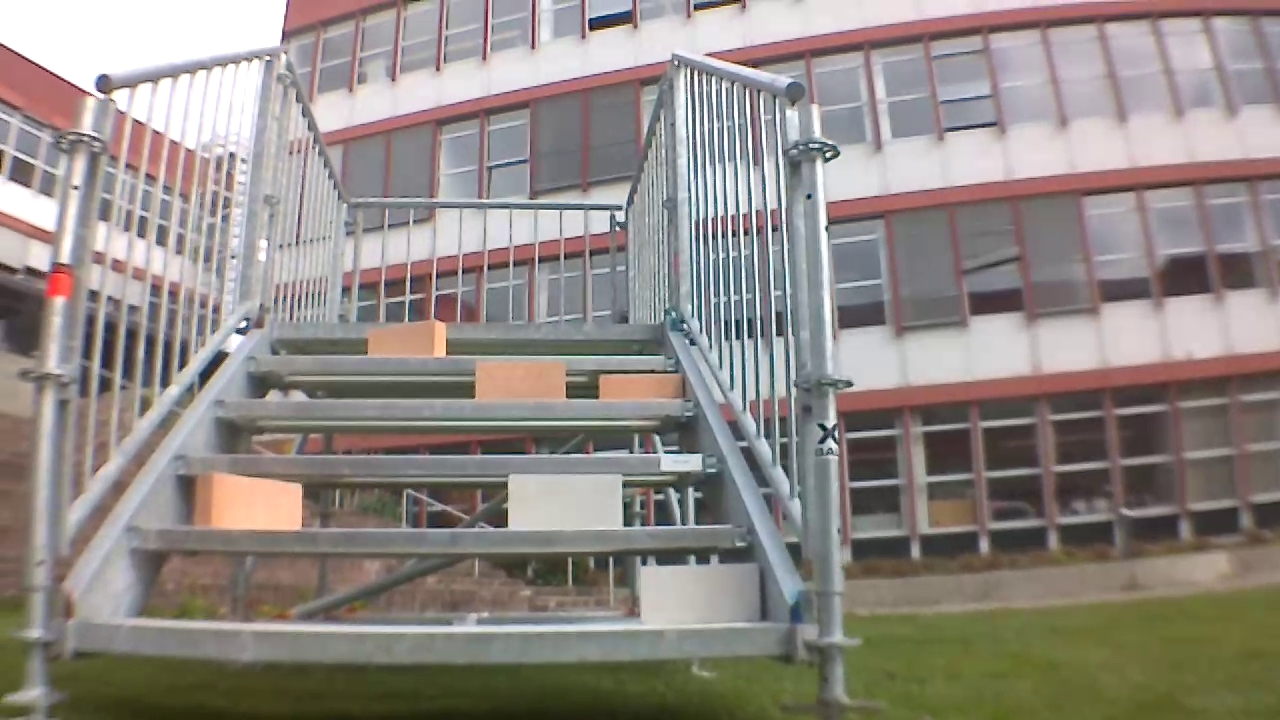brick: (642, 564, 758, 621), (507, 475, 622, 528), (194, 472, 301, 528), (473, 361, 564, 397), (367, 320, 446, 355), (598, 373, 683, 400)
edge: (80, 623, 788, 661), (125, 527, 752, 552), (177, 453, 724, 475), (215, 398, 699, 418), (243, 354, 678, 371), (273, 321, 662, 339)
stairs: (6, 45, 883, 717)
steps: (76, 316, 798, 668)
